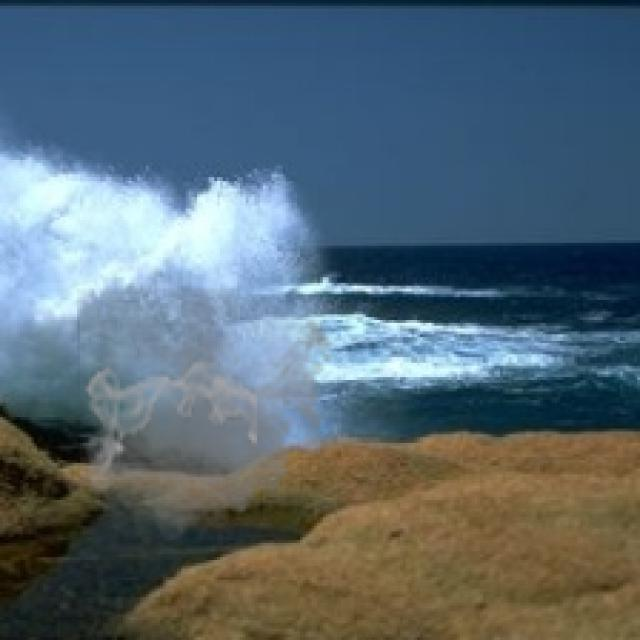Smoke: (77, 288, 340, 552)
